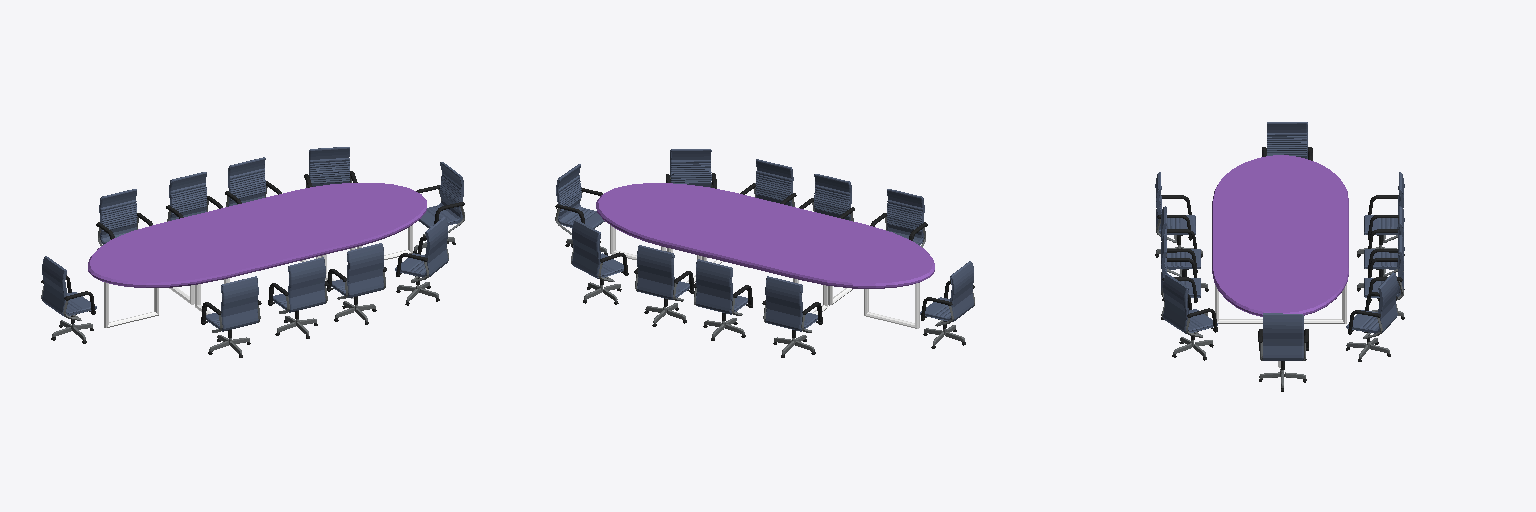
The model's file is table.obj.
The picture shows the model from 3 angles: view 1: azimuth 30°, elevation 25°; view 2: azimuth 150°, elevation 25°; view 3: azimuth 270°, elevation 25°; orthographic projection.
Visible parts, largest first — view 1: Rectangle01, Loft78, Loft83, Loft70, Loft01, Loft49, Loft107, Loft30, Loft41, Loft60, Loft118, Torus06; view 2: Rectangle01, Loft01, Loft30, Loft41, Loft83, Loft49, Loft60, Loft118, Loft78, Loft70, Loft107, Torus06; view 3: Rectangle01, Loft118, Loft60, Loft107, Loft49, Loft01, Loft83, Loft30, Loft70.
Boxes of the visible parts, x1=… form: Rectangle01: x1=88, y1=183, x2=426, y2=287; Loft78: x1=332, y1=243, x2=383, y2=297; Loft83: x1=206, y1=276, x2=258, y2=331; Loft70: x1=273, y1=257, x2=325, y2=312; Loft01: x1=100, y1=189, x2=137, y2=243; Loft49: x1=310, y1=147, x2=349, y2=186; Loft107: x1=42, y1=256, x2=95, y2=316; Loft30: x1=170, y1=172, x2=206, y2=220; Loft41: x1=229, y1=157, x2=265, y2=205; Loft60: x1=395, y1=217, x2=447, y2=277; Loft118: x1=419, y1=162, x2=463, y2=227; Torus06: x1=104, y1=282, x2=158, y2=327; Rectangle01: x1=596, y1=183, x2=934, y2=288; Loft01: x1=765, y1=276, x2=817, y2=331; Loft30: x1=696, y1=259, x2=747, y2=314; Loft41: x1=637, y1=245, x2=689, y2=299; Loft83: x1=886, y1=189, x2=923, y2=244; Loft49: x1=572, y1=219, x2=623, y2=278; Loft60: x1=671, y1=149, x2=711, y2=187; Loft118: x1=557, y1=164, x2=604, y2=228; Loft78: x1=755, y1=159, x2=792, y2=206; Loft70: x1=814, y1=174, x2=850, y2=220; Loft107: x1=921, y1=261, x2=973, y2=321; Torus06: x1=864, y1=283, x2=919, y2=328; Rectangle01: x1=1212, y1=155, x2=1348, y2=316; Loft118: x1=1263, y1=313, x2=1302, y2=360; Loft60: x1=1163, y1=273, x2=1217, y2=333; Loft107: x1=1267, y1=122, x2=1306, y2=158; Loft49: x1=1347, y1=272, x2=1397, y2=333; Loft01: x1=1364, y1=172, x2=1404, y2=234; Loft83: x1=1155, y1=172, x2=1195, y2=234; Loft30: x1=1364, y1=206, x2=1404, y2=269; Loft70: x1=1161, y1=206, x2=1200, y2=269.
Size of the model in its own units: 4.61 by 0.8395 by 2.48.